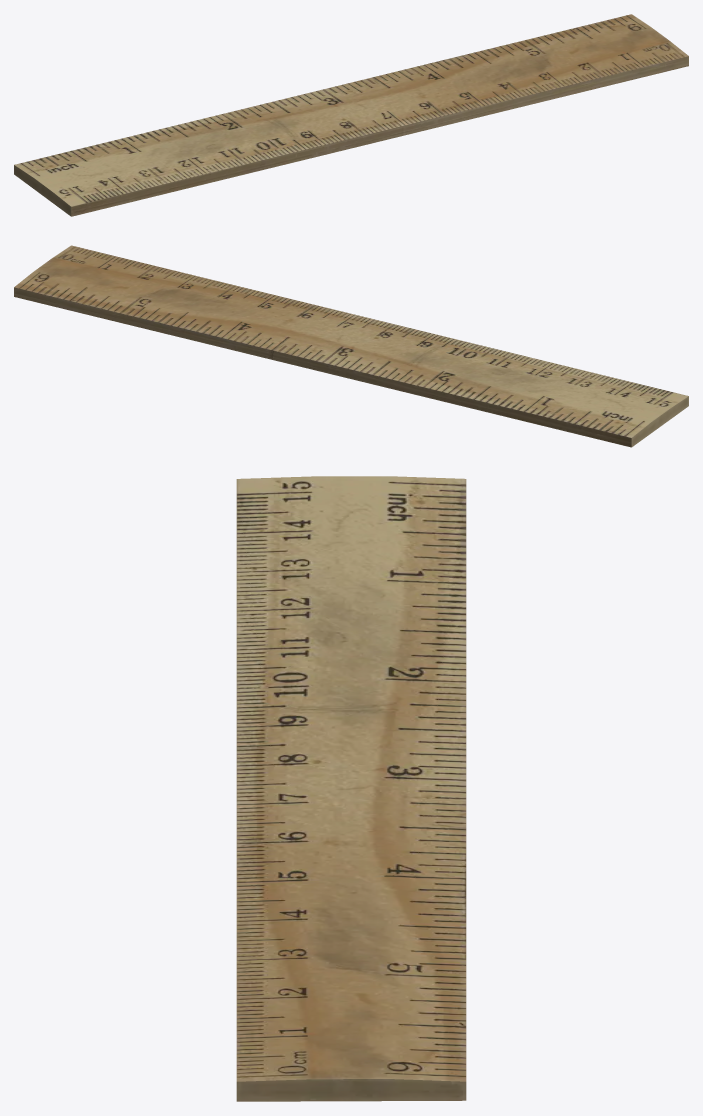
The model's file is prop_ruler.glb.
3 views of the same model, one above another, from view 1: azimuth 30°, elevation 25°; view 2: azimuth 150°, elevation 25°; view 3: azimuth 270°, elevation 25° (orthographic). The views are drawn at different scales.
Visible parts, largest first — view 1: Ruler_Low; view 2: Ruler_Low; view 3: Ruler_Low.
Part boxes in pixels (left/top/right/bottom): Ruler_Low: left=14, top=14, right=688, bottom=216; Ruler_Low: left=14, top=245, right=688, bottom=447; Ruler_Low: left=236, top=476, right=466, bottom=1101.
Bounding box in the file's own units: 0.1549 × 0.00272 × 0.0249.
Materials: 1 (1 with a texture image).
